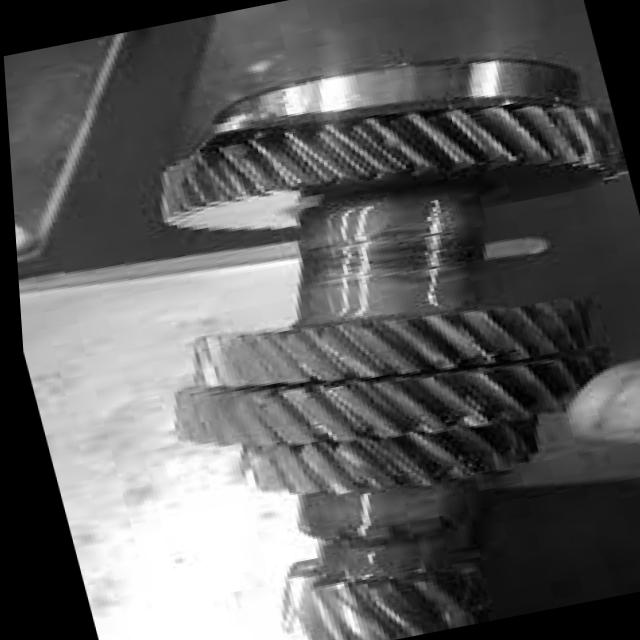No Fault: (117, 276, 611, 554), (98, 70, 617, 257), (231, 535, 505, 640)
